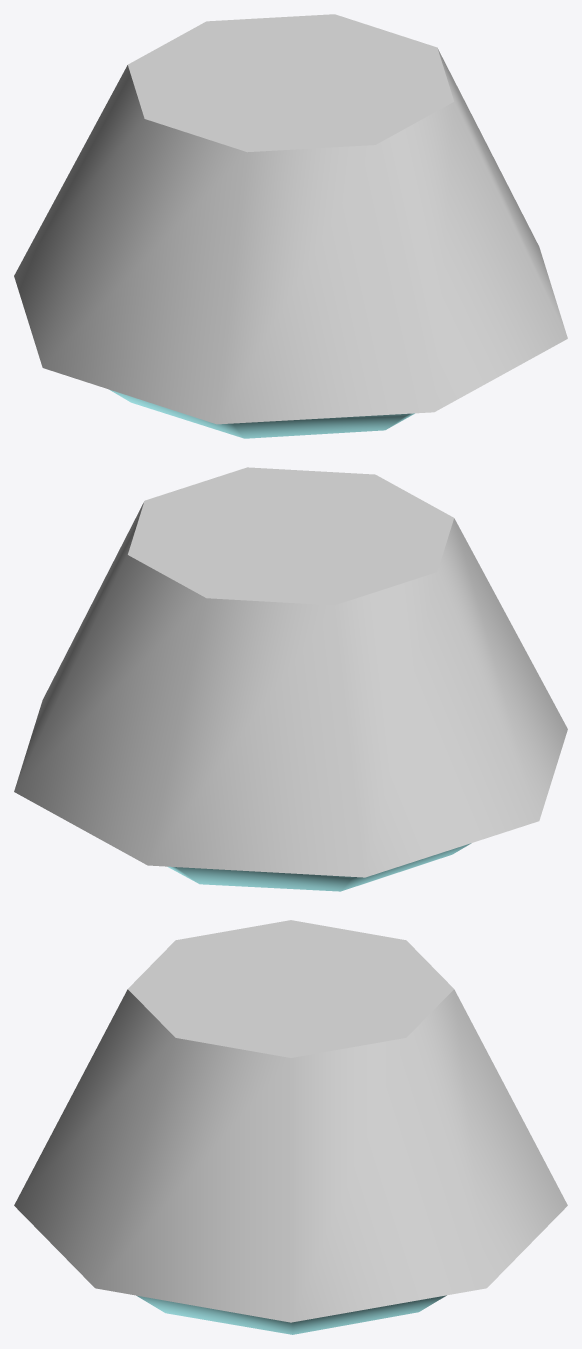
File: Light_cap.fbx
3 views of the same model, one above another, from view 1: azimuth 30°, elevation 25°; view 2: azimuth 150°, elevation 25°; view 3: azimuth 270°, elevation 25° (orthographic). The views are drawn at different scales.
Visible parts, largest first — view 1: Cylinder002, Sphere003; view 2: Cylinder002, Sphere003; view 3: Cylinder002, Sphere003.
Part boxes in pixels (x1,y1,x2,y2): Cylinder002: (14, 14, 567, 424); Sphere003: (109, 389, 414, 438); Cylinder002: (14, 467, 567, 877); Sphere003: (167, 843, 471, 891); Cylinder002: (14, 920, 567, 1322); Sphere003: (136, 1295, 446, 1334).
Size of the model in its own units: 27.14 by 15.8 by 27.14.
